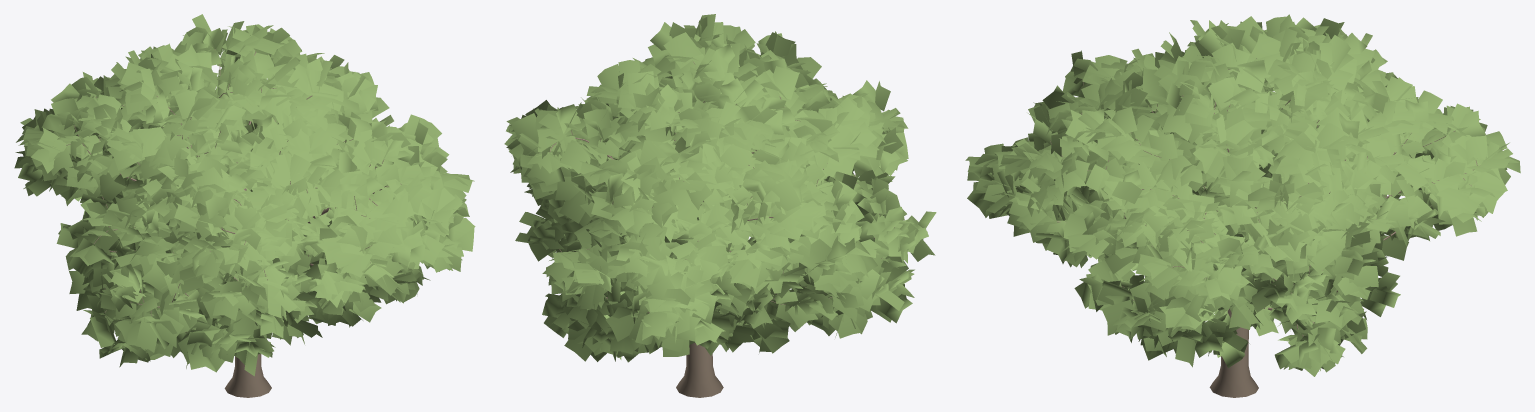
Rendered from Oak_1_lod0.glb.
3 renders of one model, left to right at view 1: azimuth 30°, elevation 25°; view 2: azimuth 150°, elevation 25°; view 3: azimuth 270°, elevation 25°, orthographic. The views are drawn at different scales.
Visible parts, largest first — view 1: Oak_1_lod0; view 2: Oak_1_lod0; view 3: Oak_1_lod0.
Part boxes in pixels (x1,y1,x2,y2): Oak_1_lod0: [14, 14, 475, 397]; Oak_1_lod0: [504, 14, 936, 397]; Oak_1_lod0: [965, 14, 1520, 397].
Bounding box in the file's own units: 18.62 × 15.75 × 22.25.
